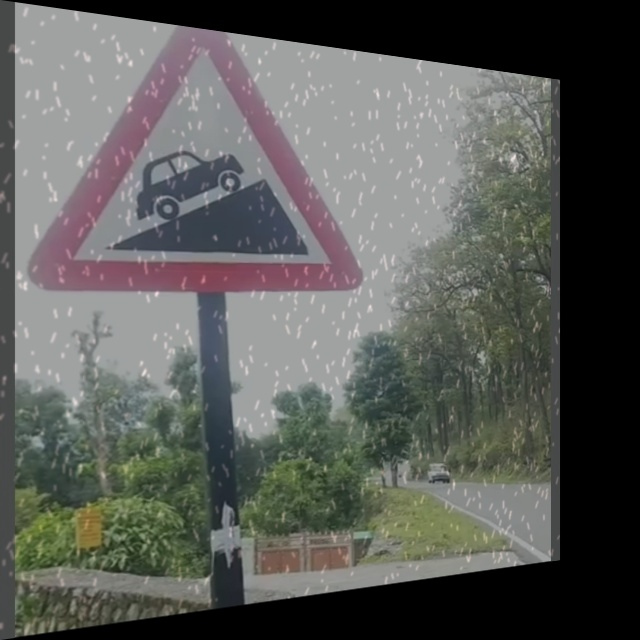Steep_Ascent: (49, 14, 359, 287)
